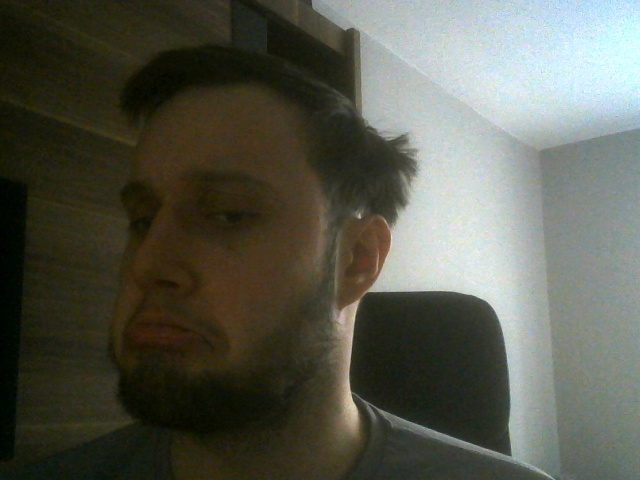neutral: (110, 45, 391, 422)
